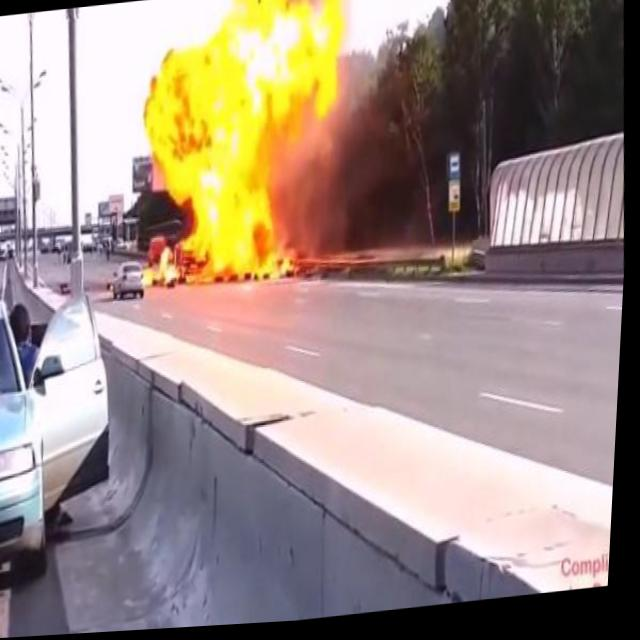fire: (128, 0, 366, 298)
